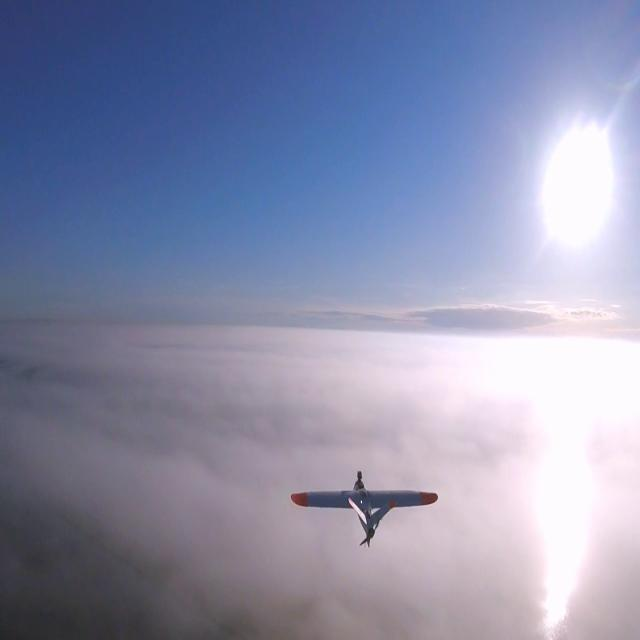iha: (290, 498, 439, 519)
